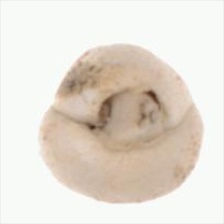L3: (91, 87, 174, 150)
L4: (39, 43, 204, 203)
